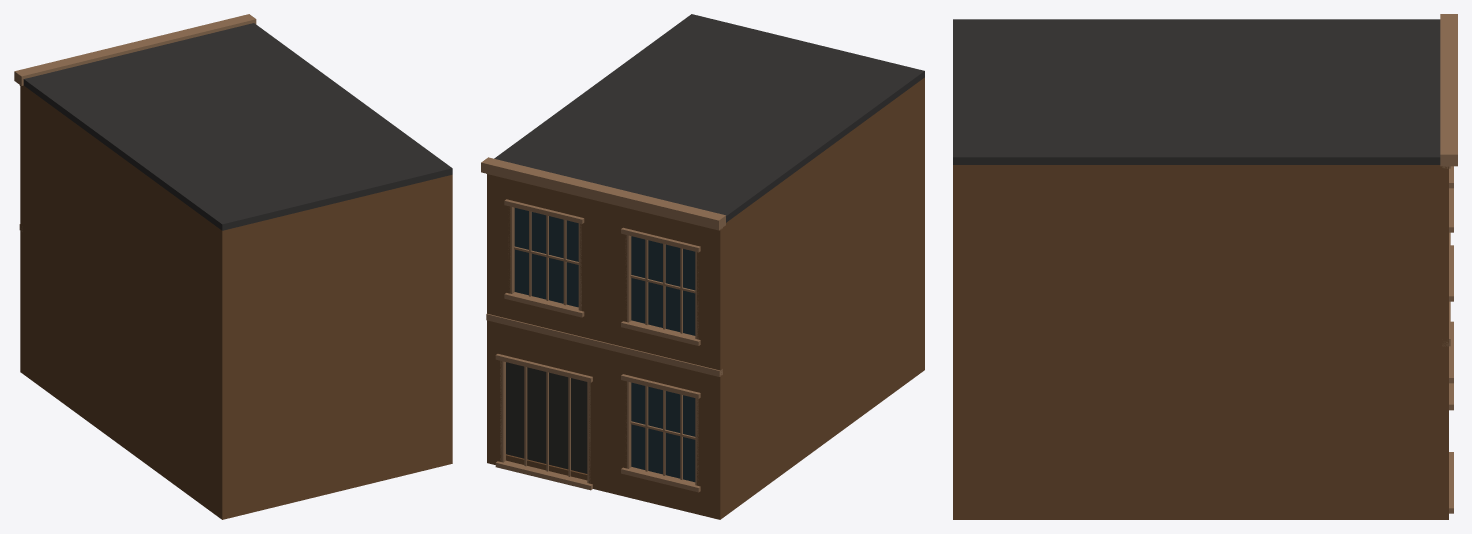
File: warehouse_2b_2f.obj
The picture shows the model from 3 angles, left to right: view 1: azimuth 30°, elevation 25°; view 2: azimuth 150°, elevation 25°; view 3: azimuth 270°, elevation 25°; orthographic projection. The views are drawn at different scales.
Parts seen in each view (by area): view 1: rear_1, party_wall_2, roof_slab_57, foundation_0, cornice_56, side_3, wall_pier_29; view 2: party_wall_2, roof_slab_57, loading_door_20, recessed_glass_8, recessed_glass_46, recessed_glass_33, cornice_56, wall_pier_29, wall_pier_4, wall_pier_5, wall_pier_42, wall_pier_30 (+22 smaller); view 3: side_3, roof_slab_57, foundation_0, rear_1, cornice_56, wall_pier_43, wall_pier_18.
Boxes of the visible parts, left/top/right/bottom form: rear_1: left=217, top=175, right=452, bottom=519; party_wall_2: left=23, top=87, right=231, bottom=517; roof_slab_57: left=23, top=23, right=452, bottom=230; foundation_0: left=23, top=365, right=452, bottom=519; cornice_56: left=14, top=14, right=256, bottom=85; side_3: left=443, top=174, right=452, bottom=462; wall_pier_29: left=20, top=85, right=25, bottom=228; party_wall_2: left=723, top=79, right=924, bottom=516; roof_slab_57: left=494, top=14, right=924, bottom=222; loading_door_20: left=506, top=362, right=587, bottom=473; recessed_glass_8: left=631, top=382, right=695, bottom=482; recessed_glass_46: left=514, top=208, right=578, bottom=307; recessed_glass_33: left=631, top=236, right=695, bottom=335; cornice_56: left=481, top=157, right=725, bottom=230; wall_pier_29: left=697, top=225, right=725, bottom=371; wall_pier_4: left=697, top=371, right=725, bottom=519; wall_pier_5: left=603, top=349, right=626, bottom=496; wall_pier_42: left=580, top=197, right=603, bottom=341; wall_pier_30: left=603, top=202, right=626, bottom=347; side_3: left=953, top=165, right=1442, bottom=519; roof_slab_57: left=953, top=19, right=1440, bottom=164; foundation_0: left=953, top=508, right=1442, bottom=519; rear_1: left=953, top=165, right=966, bottom=519; cornice_56: left=1440, top=14, right=1457, bottom=166; wall_pier_43: left=1436, top=165, right=1448, bottom=342; wall_pier_18: left=1436, top=342, right=1448, bottom=519.
Bounding box in the file's own units: 6.12 × 7.44 × 9.28.
